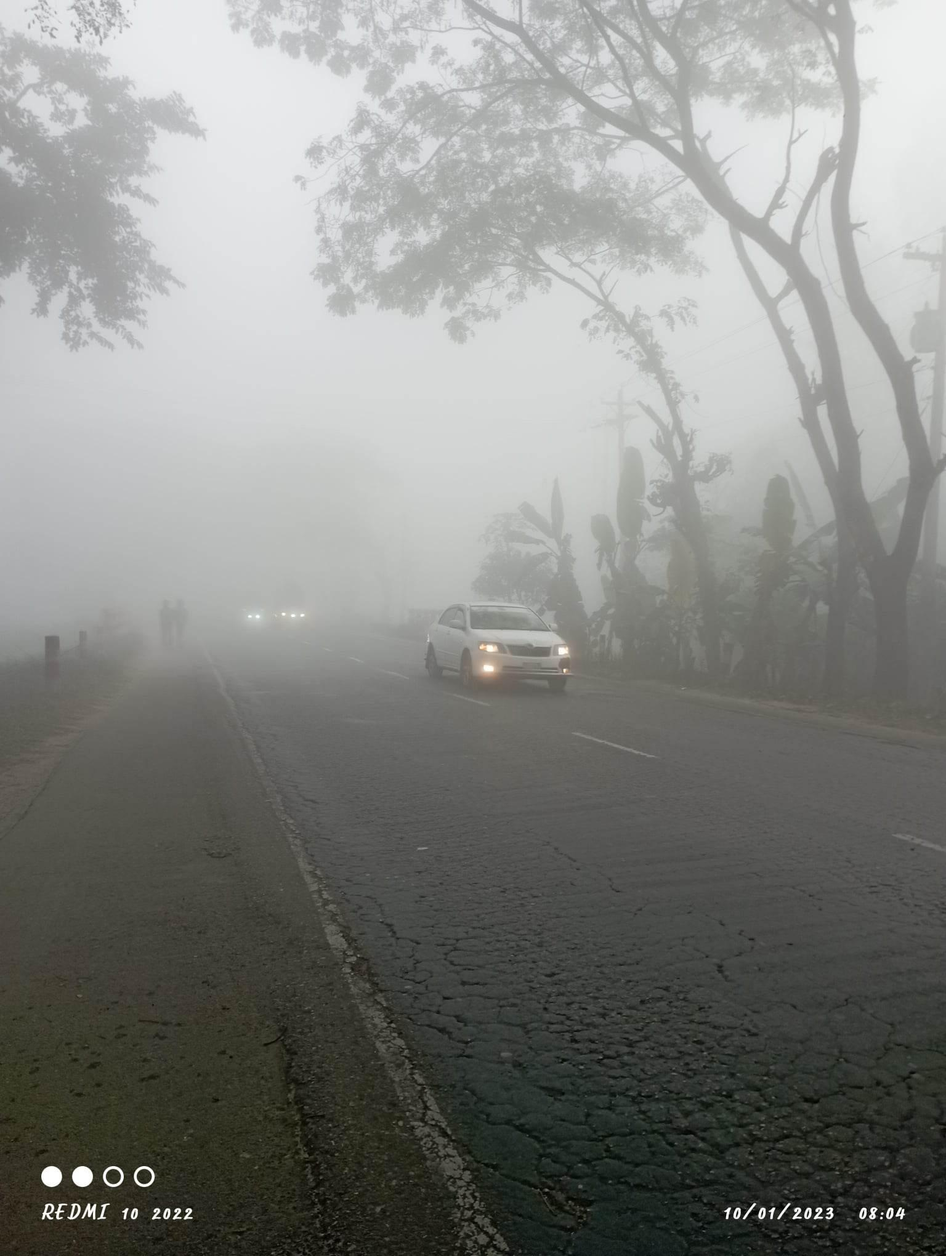Car: (410, 589, 593, 720)
